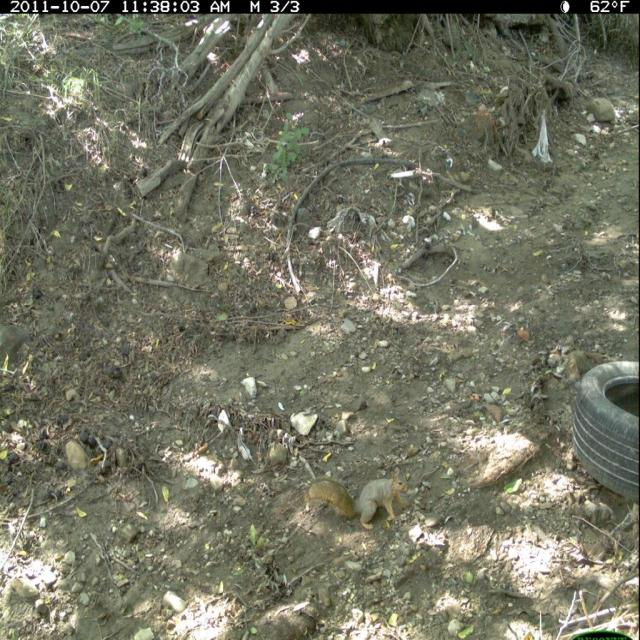squirrel: (303, 465, 422, 536)
